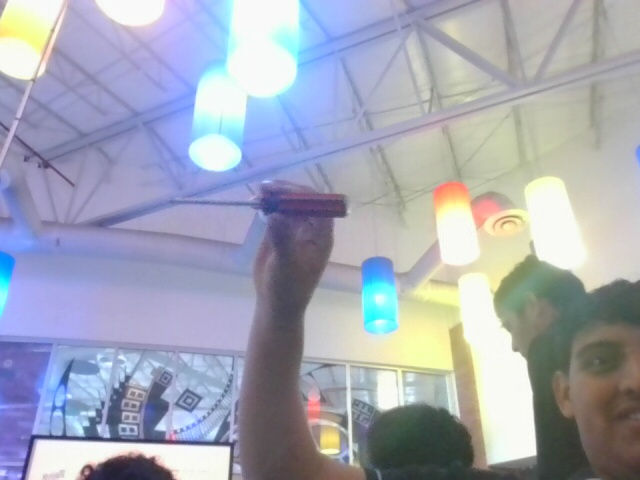destornillador: (158, 182, 352, 217)
